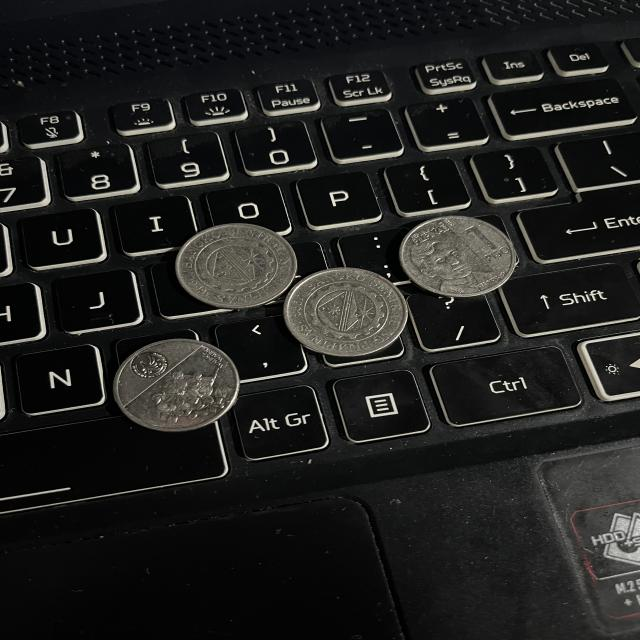1_New_Back: (151, 365, 231, 425)
1_New_Front: (462, 220, 520, 266)
1_Old_Back: (286, 266, 408, 352), (174, 224, 297, 309)
